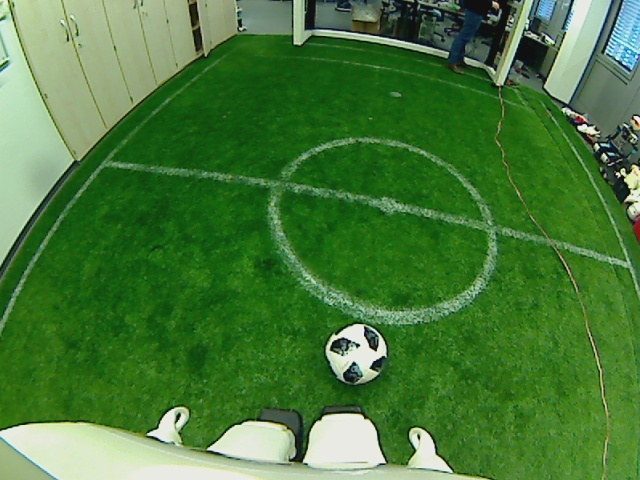ball: (322, 321, 390, 387)
